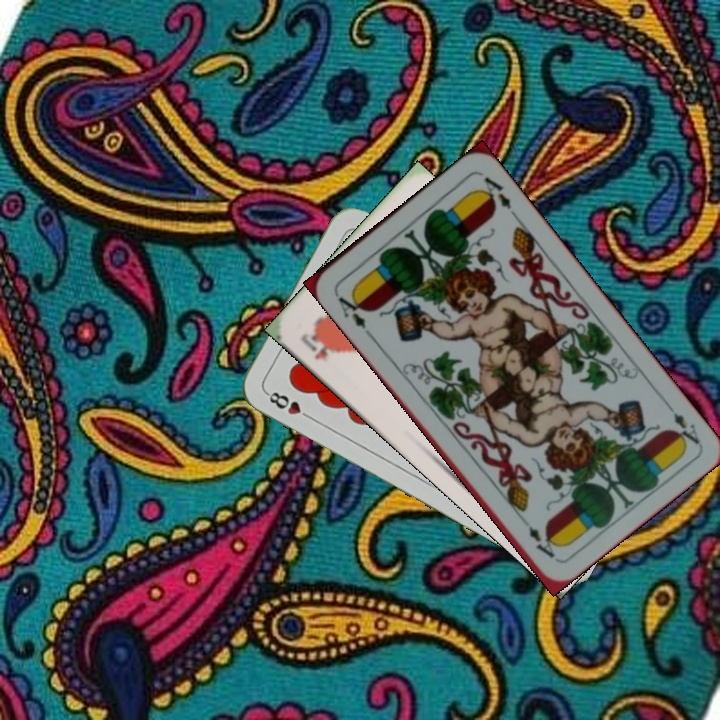EA: (660, 397, 703, 450), (331, 287, 370, 332)
H8: (262, 387, 316, 423)
HO: (296, 328, 341, 365)
